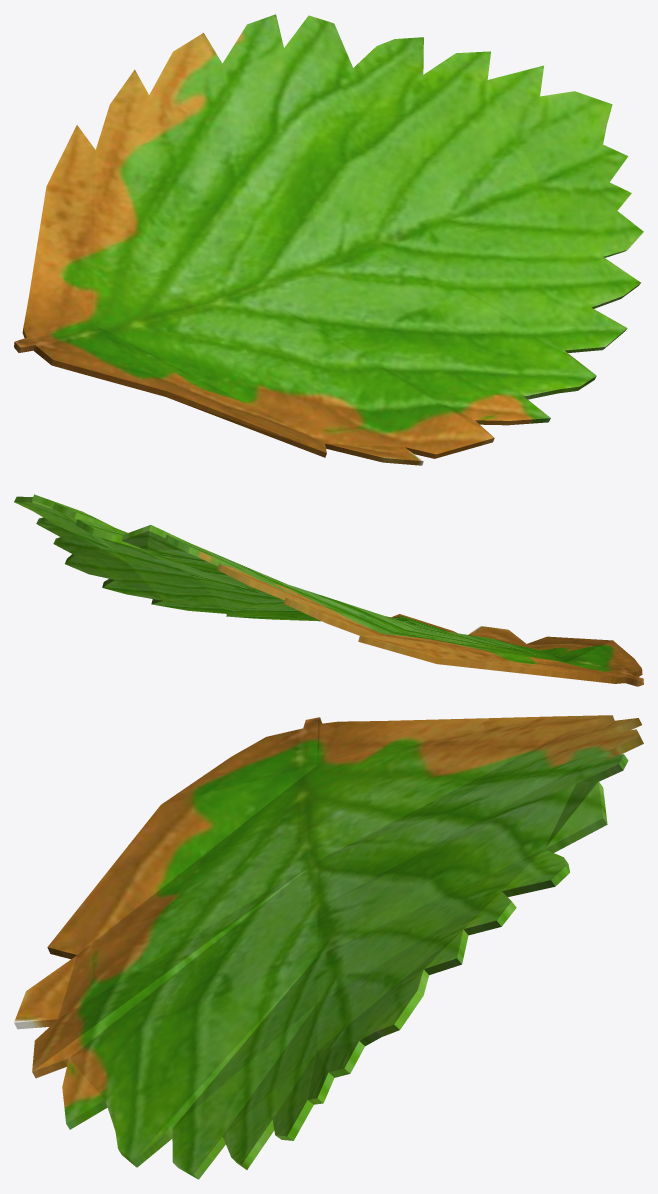
File: leaf3_s1.dae
3 views of the same model, one above another, from view 1: azimuth 30°, elevation 25°; view 2: azimuth 150°, elevation 25°; view 3: azimuth 270°, elevation 25° (orthographic). The views are drawn at different scales.
Visible parts, largest first — view 1: Plane; view 2: Plane; view 3: Plane.
Boxes of the visible parts, left/top/right/bottom form: Plane: left=14, top=14, right=643, bottom=465; Plane: left=14, top=494, right=643, bottom=686; Plane: left=14, top=715, right=643, bottom=1179.
Size of the model in its own units: 0.1376 by 0.0946 by 0.055.
1 material, 1 textured.
